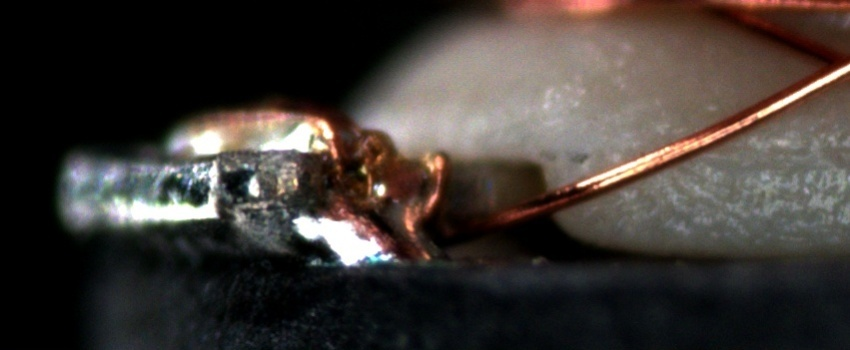CL: (797, 37, 849, 90)
DL: (704, 124, 849, 185)
TE: (168, 105, 451, 239)
